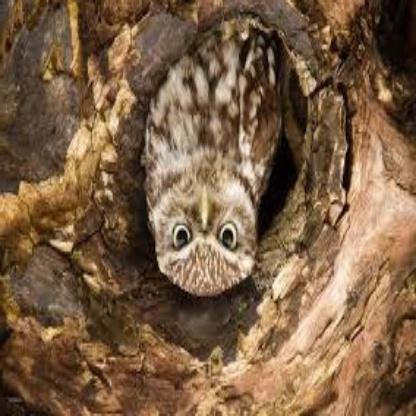Owl: (149, 22, 269, 289)
